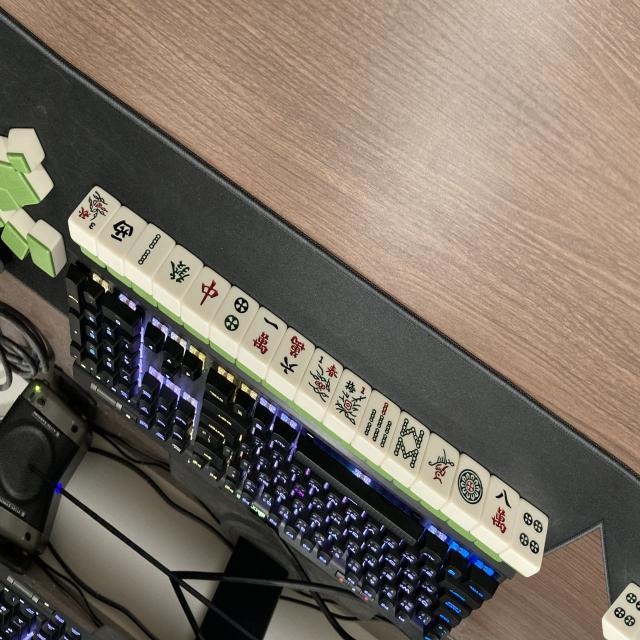f1: (328, 374, 376, 431)
fa: (154, 247, 205, 301)
ff1: (296, 351, 346, 408)
ff3: (72, 184, 120, 238)
m1: (240, 309, 291, 367)
m6: (267, 328, 318, 386)
m8: (477, 482, 526, 544)
s1: (417, 436, 465, 494)
s2: (127, 225, 175, 276)
s7: (358, 394, 406, 452)
s8: (386, 417, 434, 474)
t1: (444, 458, 495, 520)
t2: (211, 287, 264, 345)
t4: (506, 503, 553, 566), (603, 581, 640, 638)
west: (97, 205, 146, 258)
zhong: (182, 266, 235, 322)
